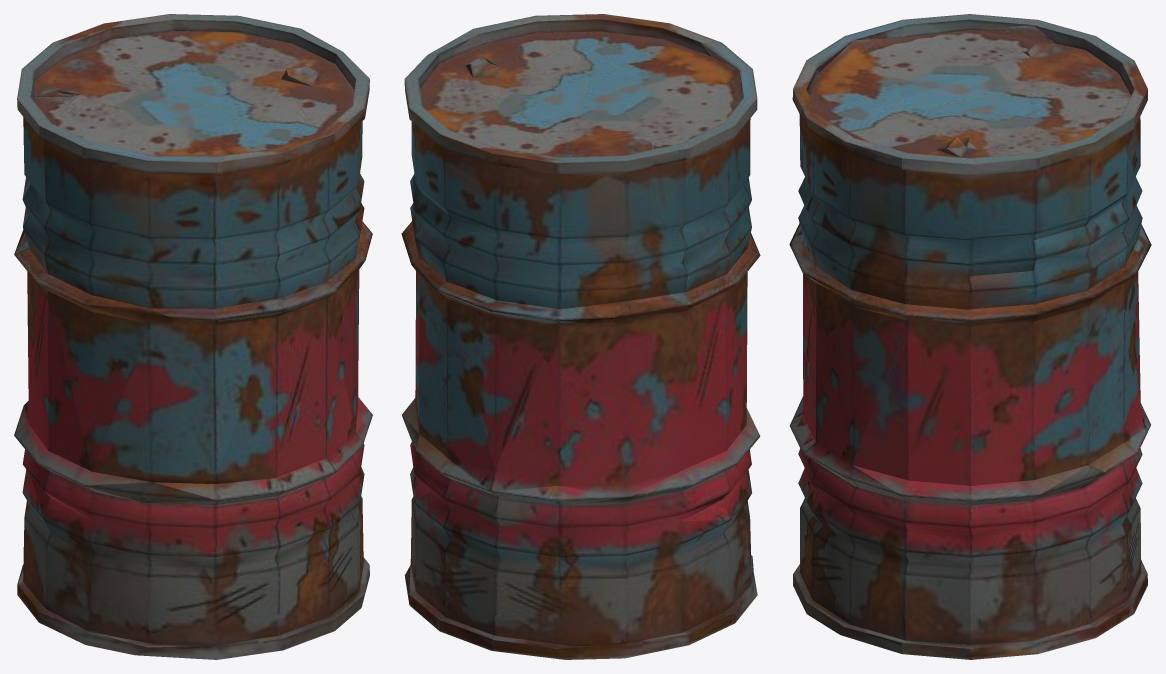
The model's file is prop_barrel.glb.
3 renders of one model, left to right at view 1: azimuth 30°, elevation 25°; view 2: azimuth 150°, elevation 25°; view 3: azimuth 270°, elevation 25°, orthographic.
Size of the model in its own units: 1.25 by 1.9 by 1.26.
1 material, 1 textured.
